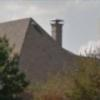chimneys: (50, 20, 63, 48)
